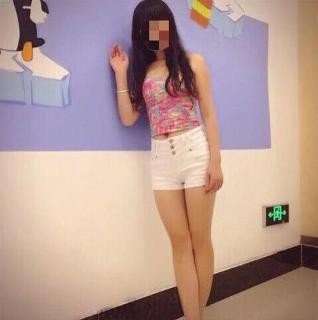shorts: (150, 125, 222, 191)
sling dress: (140, 53, 201, 137)
